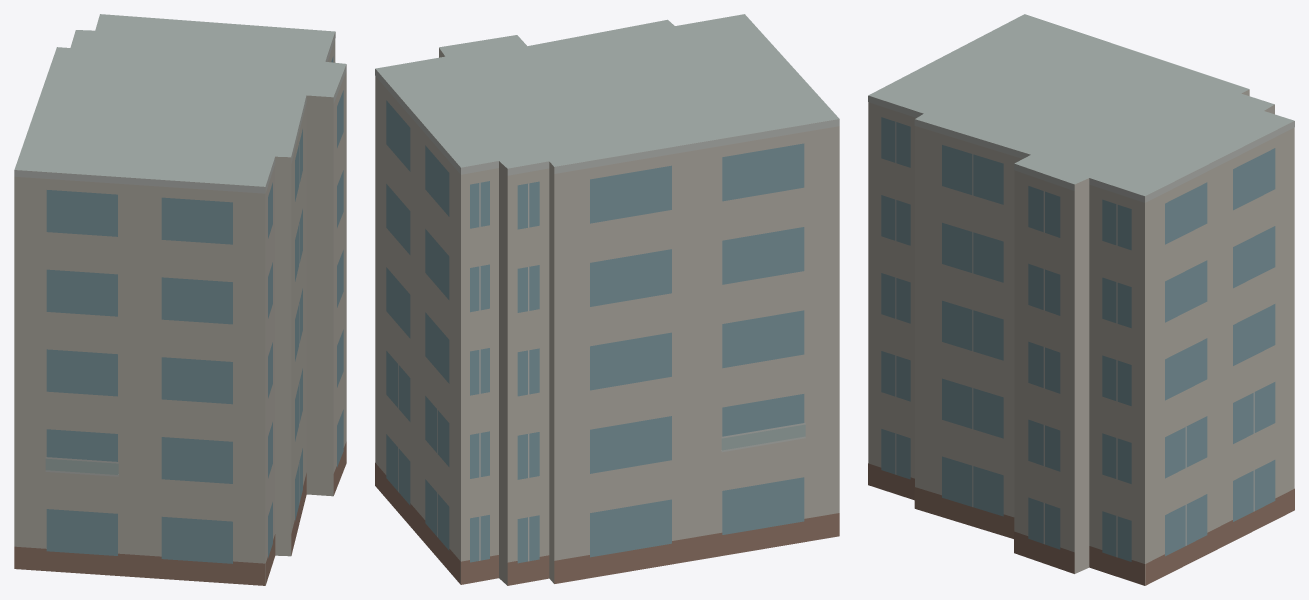
Rendered from survey-upis-32892780.glb.
The picture shows the model from 3 angles, left to right: view 1: azimuth 30°, elevation 25°; view 2: azimuth 150°, elevation 25°; view 3: azimuth 270°, elevation 25°; orthographic projection. The views are drawn at different scales.
Parts seen in each view (by area): view 1: survey-upis-32892780.tmp; view 2: survey-upis-32892780.tmp; view 3: survey-upis-32892780.tmp.
Part boxes in pixels (x1,y1,x2,y2): survey-upis-32892780.tmp: [14, 14, 346, 585]; survey-upis-32892780.tmp: [375, 14, 839, 585]; survey-upis-32892780.tmp: [868, 14, 1294, 585].
Size of the model in its own units: 14.36 by 14.3 by 14.2.
